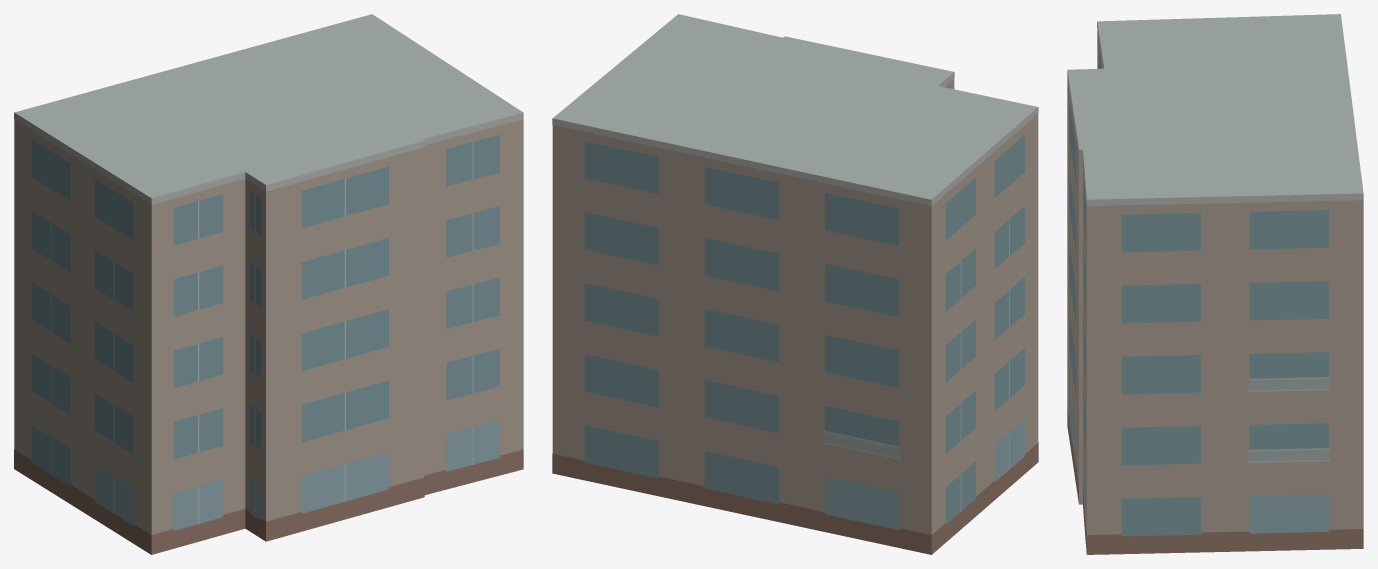
The model's file is survey-upis-33006164.glb.
3 renders of one model, left to right at view 1: azimuth 30°, elevation 25°; view 2: azimuth 150°, elevation 25°; view 3: azimuth 270°, elevation 25°, orthographic.
Visible parts, largest first — view 1: survey-upis-33006164.tmp; view 2: survey-upis-33006164.tmp; view 3: survey-upis-33006164.tmp.
Boxes of the visible parts, <box> form: survey-upis-33006164.tmp: <box>14,14,523,554</box>; survey-upis-33006164.tmp: <box>552,14,1038,554</box>; survey-upis-33006164.tmp: <box>1067,14,1363,554</box>.
Size of the model in its own units: 14.81 by 13.2 by 9.99.
